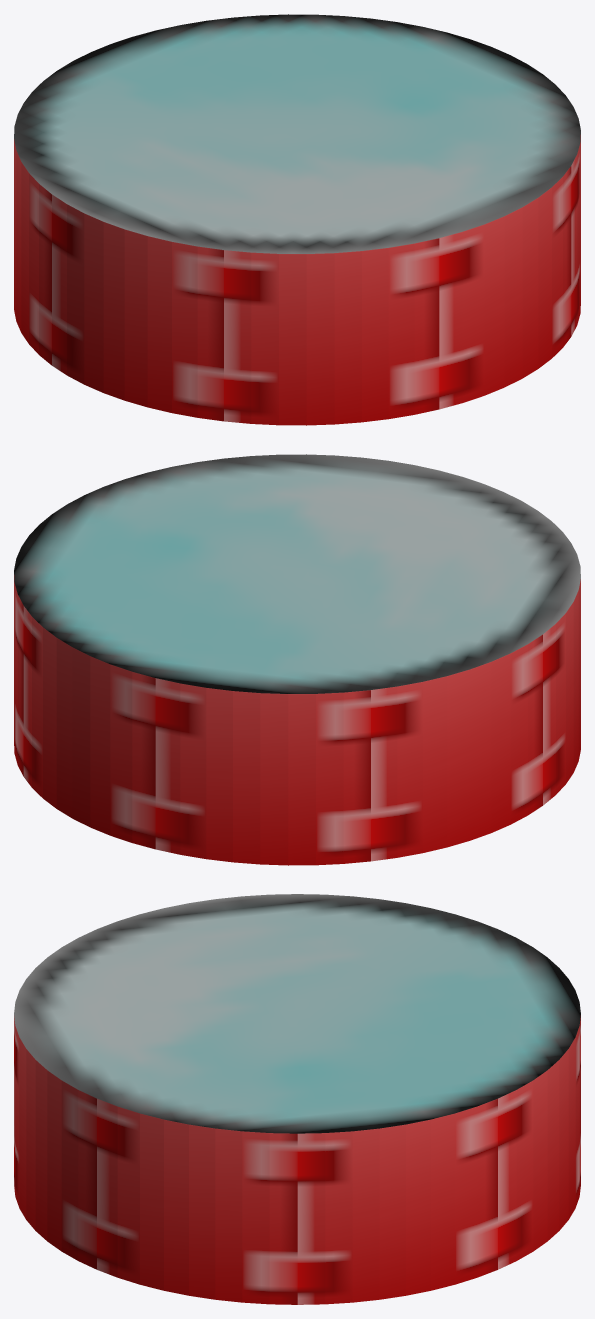
Rendered from crossb.obj.
3 views of the same model, one above another, from view 1: azimuth 30°, elevation 25°; view 2: azimuth 150°, elevation 25°; view 3: azimuth 270°, elevation 25° (orthographic).
Parts seen in each view (by area): view 1: ColobotMesh_1_Cylinder.001; view 2: ColobotMesh_1_Cylinder.001; view 3: ColobotMesh_1_Cylinder.001.
Part boxes in pixels (x1,y1,x2,y2): ColobotMesh_1_Cylinder.001: (14, 14, 580, 425); ColobotMesh_1_Cylinder.001: (14, 454, 580, 865); ColobotMesh_1_Cylinder.001: (14, 894, 580, 1304).
Size of the model in its own units: 3 by 1 by 3.
